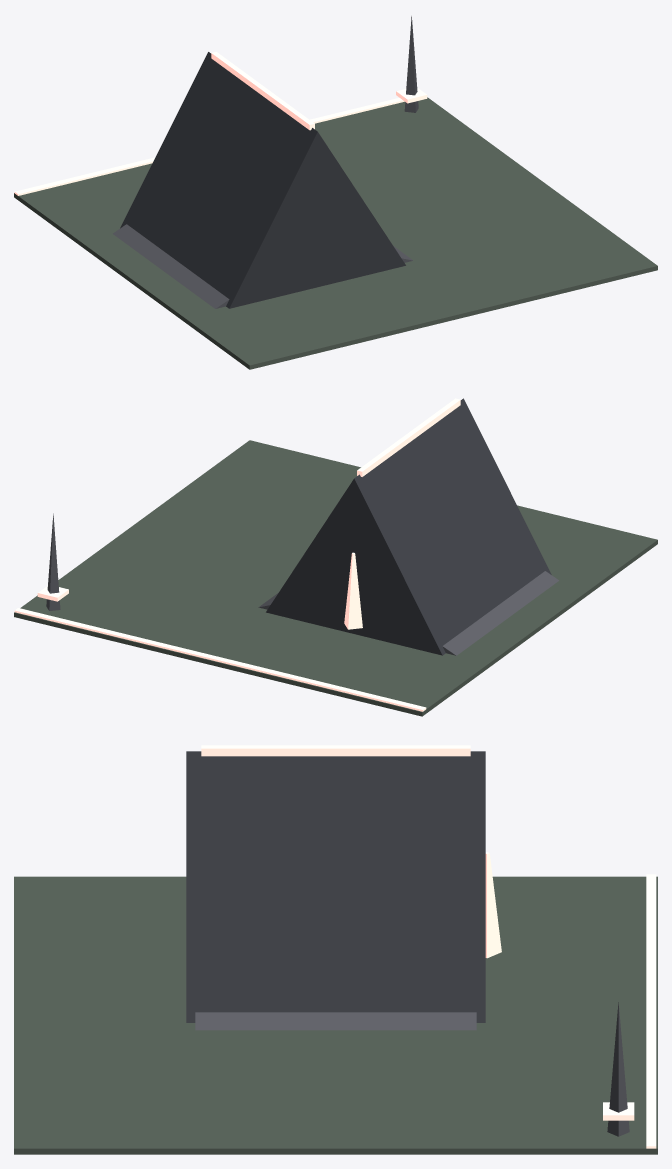
The model's file is zone_low_6_t1.glb.
3 renders of one model, top to bottom at view 1: azimuth 30°, elevation 25°; view 2: azimuth 150°, elevation 25°; view 3: azimuth 270°, elevation 25°, orthographic. The views are drawn at different scales.
Visible parts, largest first — view 1: zone_low_6_t1, detail; view 2: zone_low_6_t1, detail; view 3: zone_low_6_t1, detail.
Part boxes in pixels (box(x1,y1,x2,y2)): zone_low_6_t1: box(14, 51, 657, 369); detail: box(14, 16, 427, 195); zone_low_6_t1: box(14, 398, 657, 716); detail: box(14, 513, 426, 711); zone_low_6_t1: box(14, 745, 657, 1154); detail: box(603, 874, 656, 1148).
Bounding box in the file's own units: 19.6 × 7.49 × 19.6.
